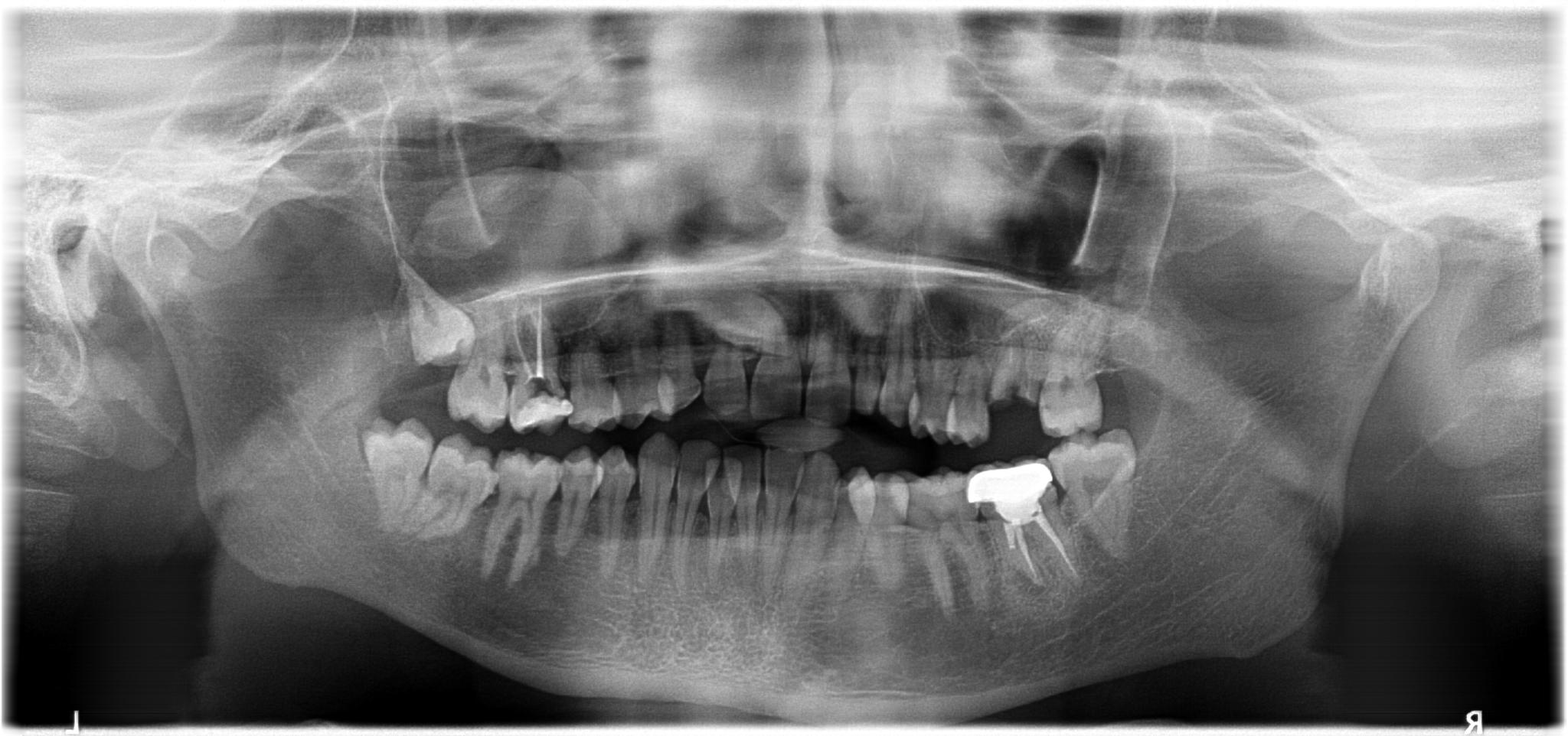Premolars: (554, 224, 1568, 602), (528, 195, 1567, 526), (311, 239, 909, 690), (296, 222, 861, 602), (225, 213, 644, 626), (250, 173, 714, 481)
